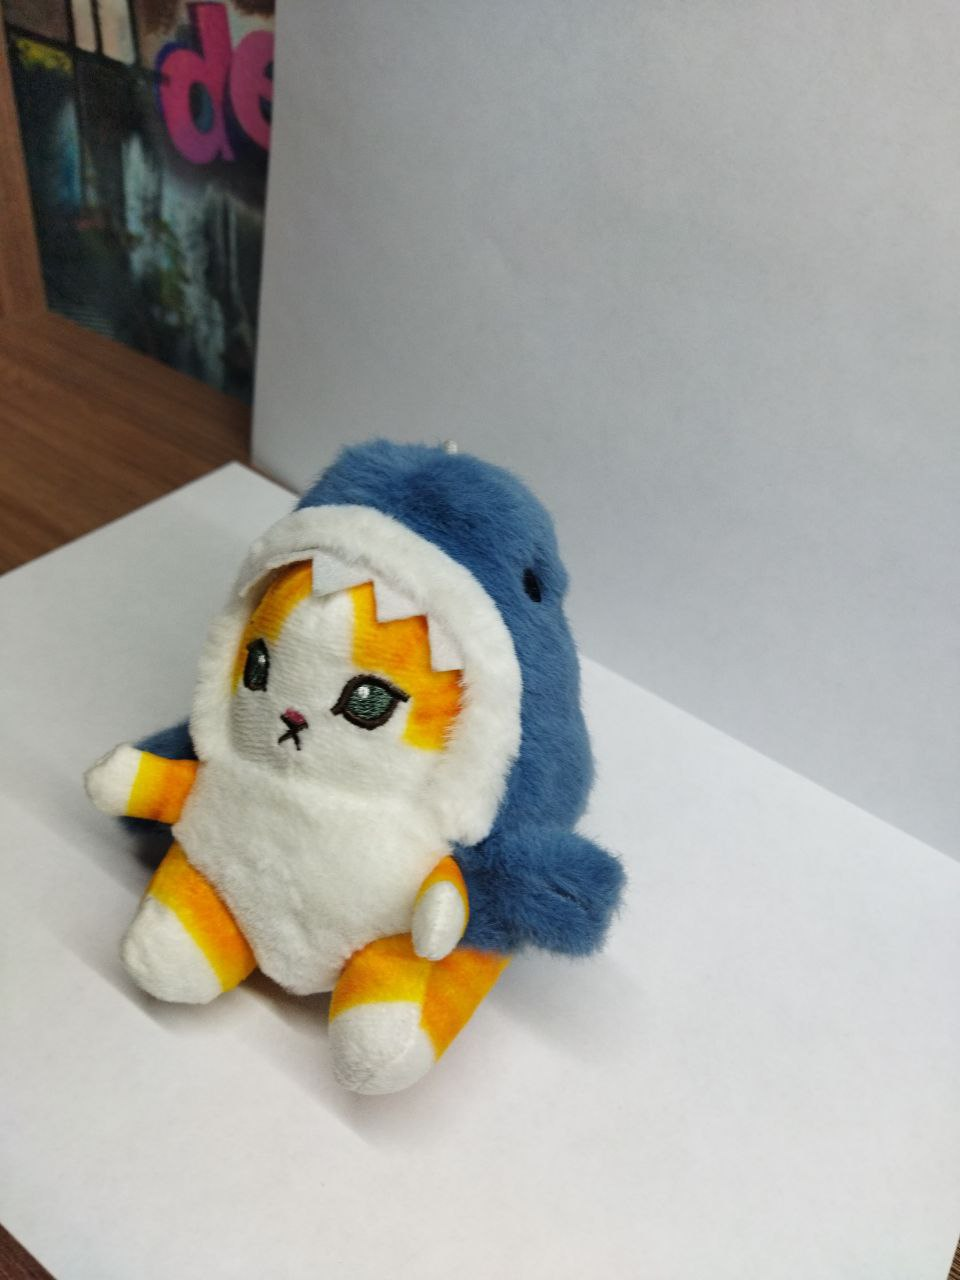Snark Cat: (88, 437, 627, 1097)
